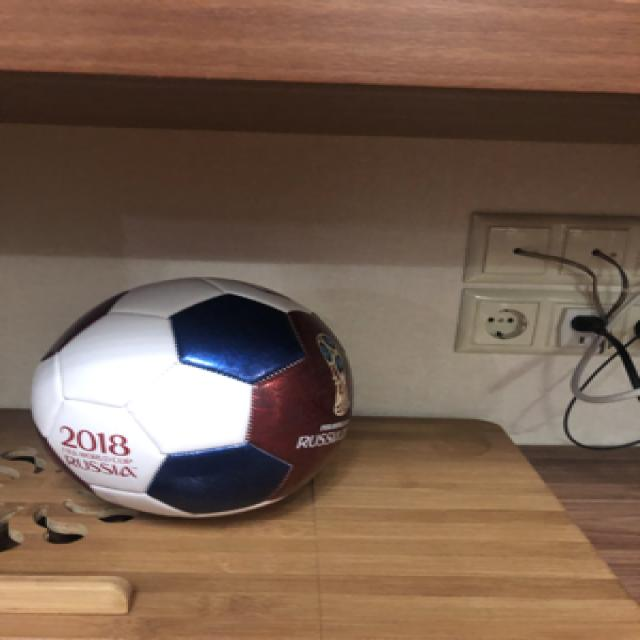soccer_ball: (28, 274, 354, 516)
